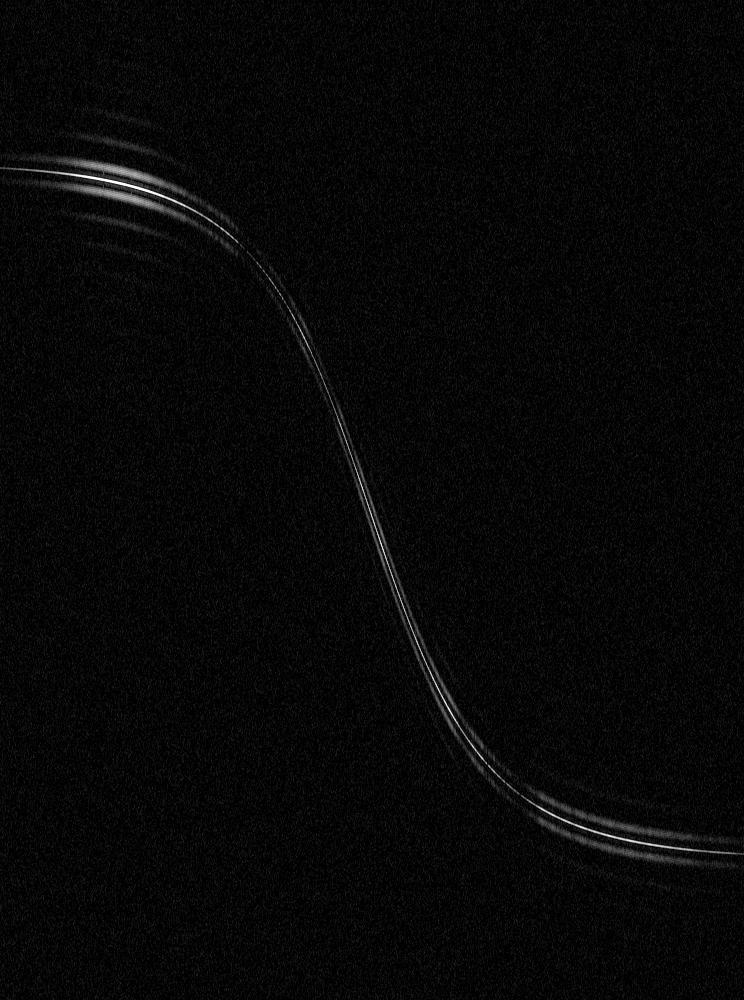signal: (0, 0, 743, 999)
